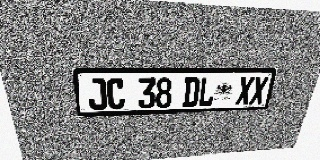3: (139, 78, 156, 109)
8: (155, 77, 173, 108)
C: (106, 78, 125, 110)
D: (182, 77, 201, 107)
J: (87, 78, 107, 110)
L: (198, 77, 216, 106)
X: (235, 77, 255, 105), (249, 77, 269, 104)
